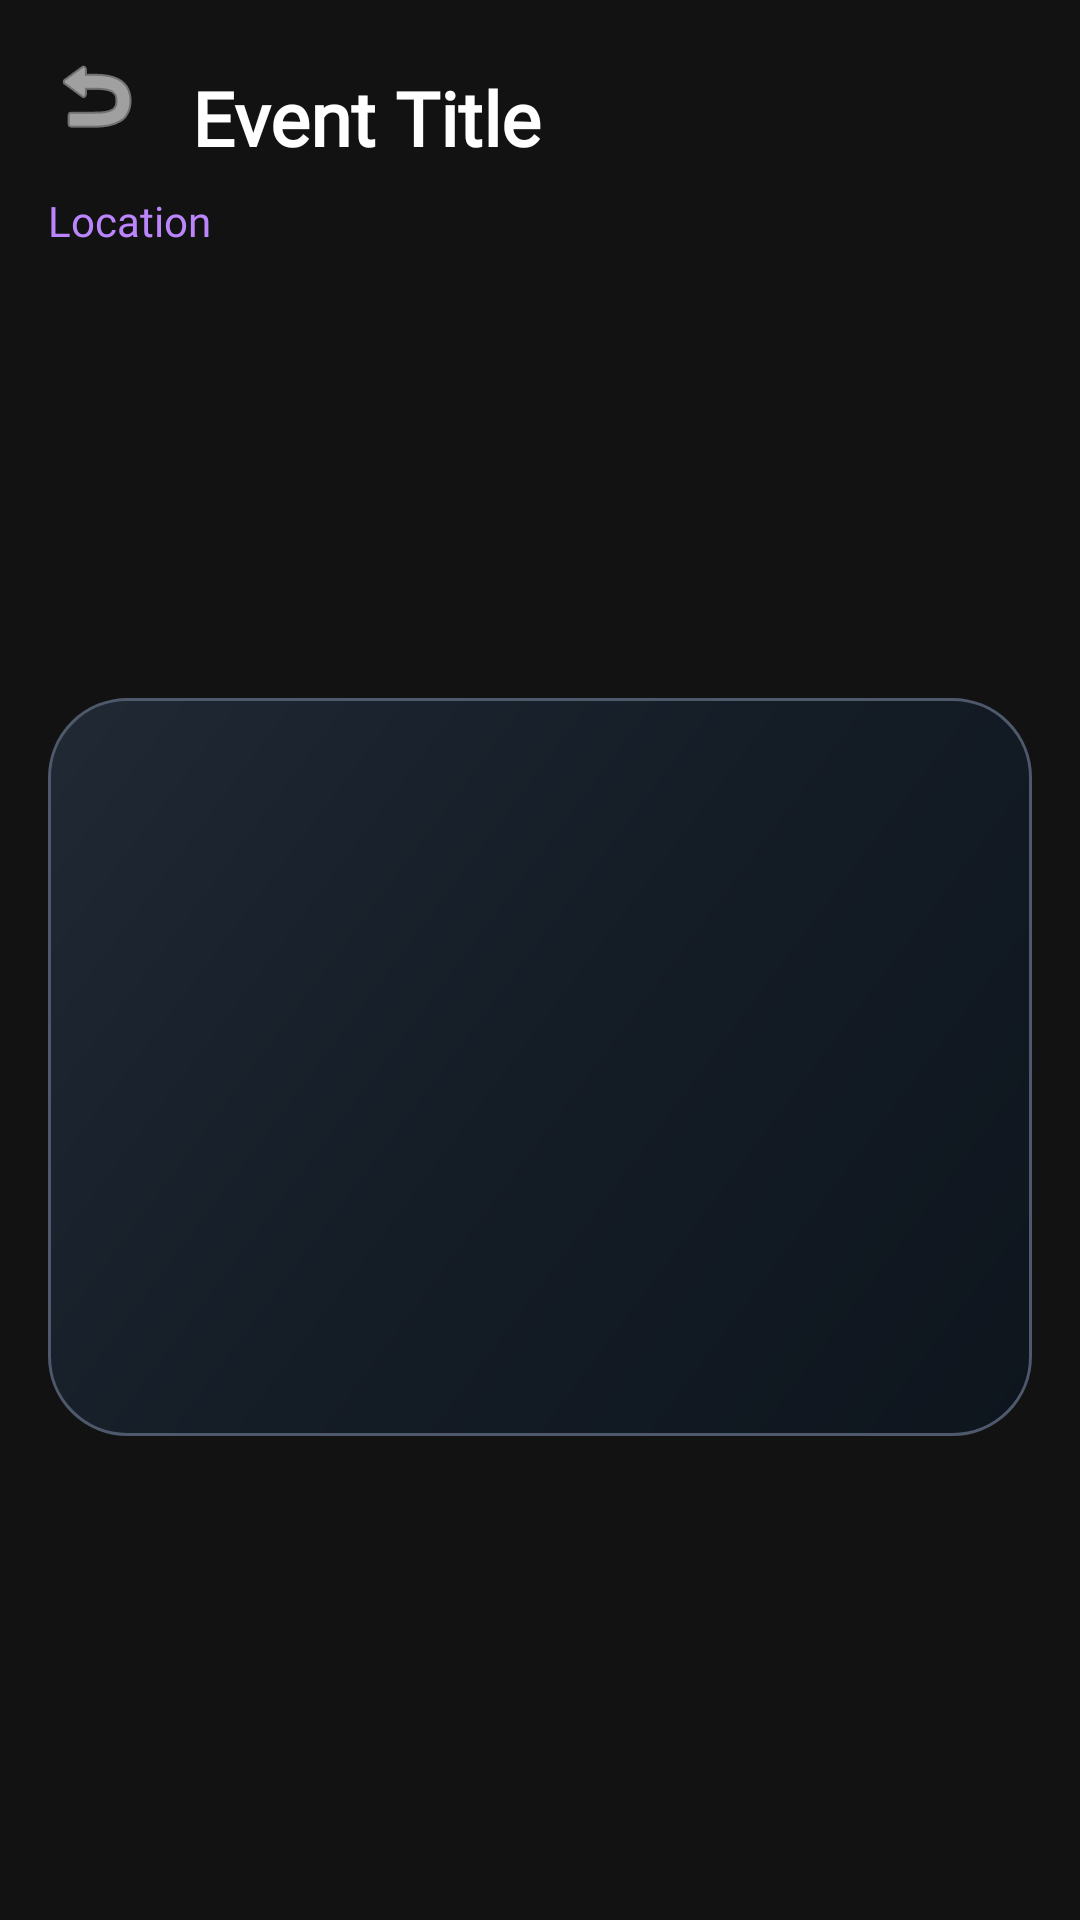

Where icons sit on this 1080 × 1920 app screen, as {"x1": x1, "y1": y1, "x2": x2, "y2": y2}:
Back: {"x1": 63, "y1": 65, "x2": 132, "y2": 128}
